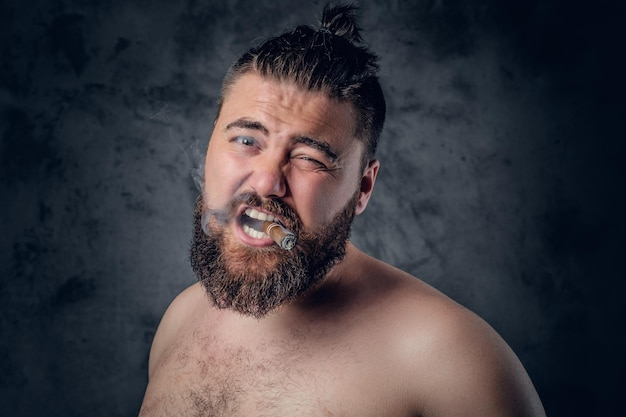cigarette: (262, 219, 298, 248)
